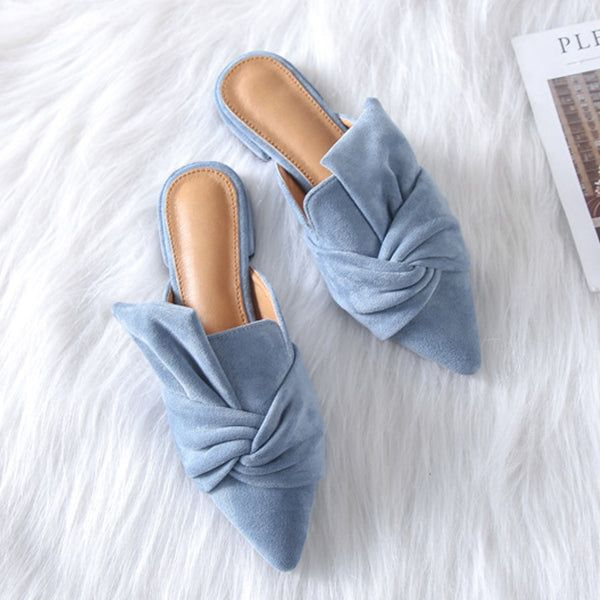gamuza: (114, 51, 481, 573)
